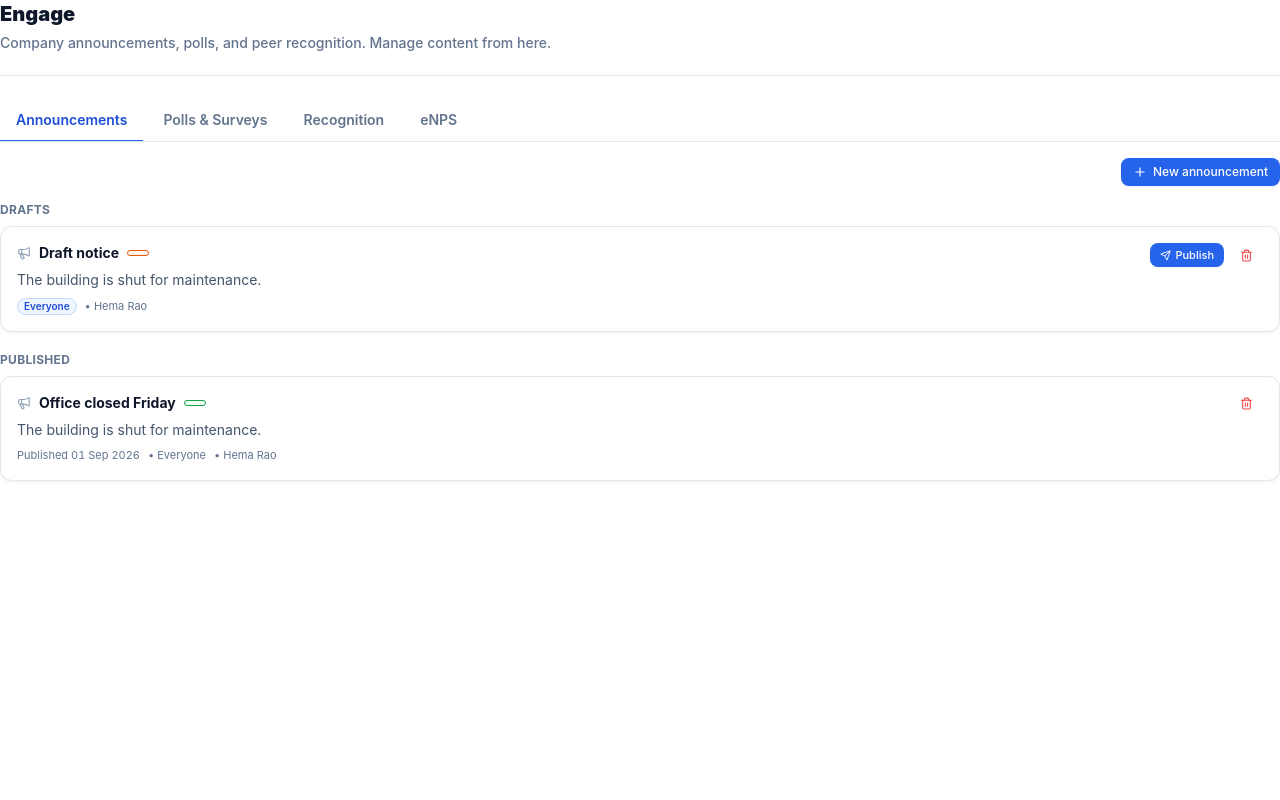
Test case: announcements › confirms before deleting, and says it cannot be undone
Click the button named "Delete Office closed Friday" at (1246, 403), box [1230,392,1263,414]
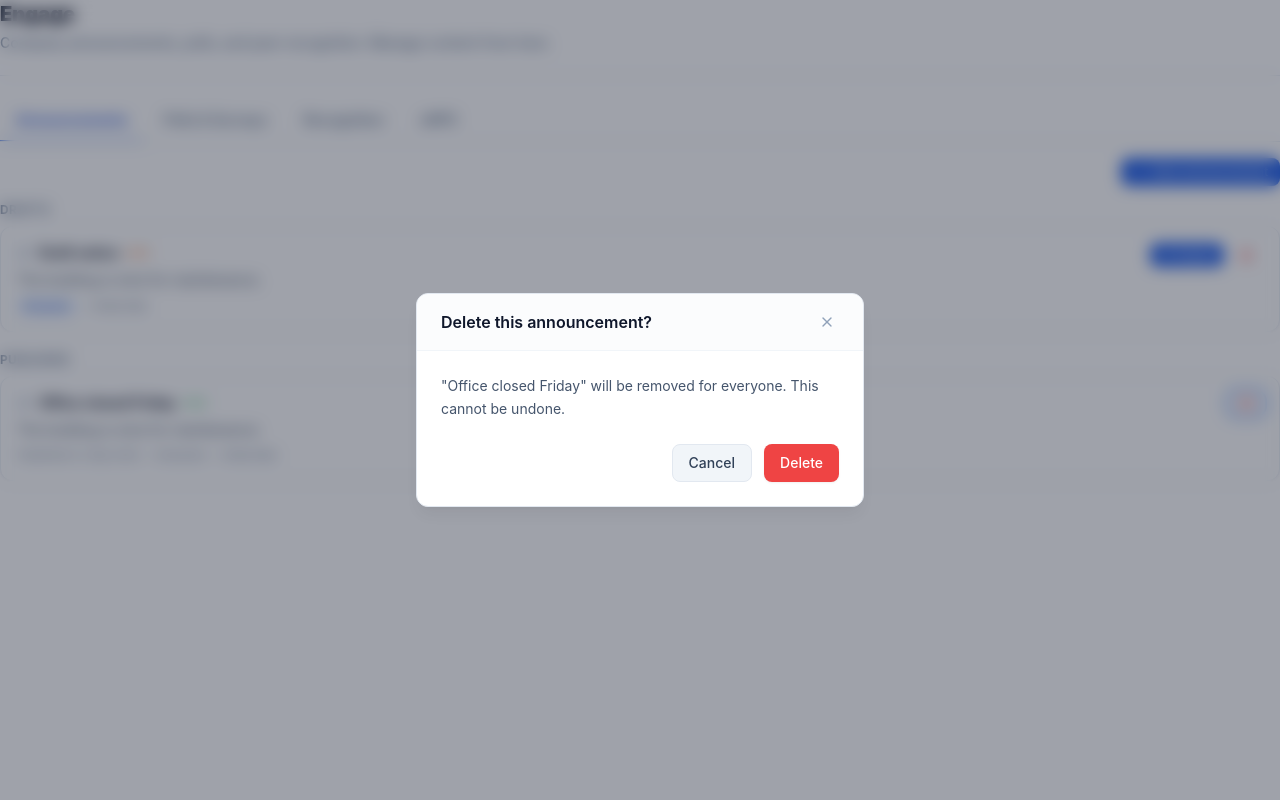
expect the text "cannot be undone" is shown: met, box [441,377,819,417]
